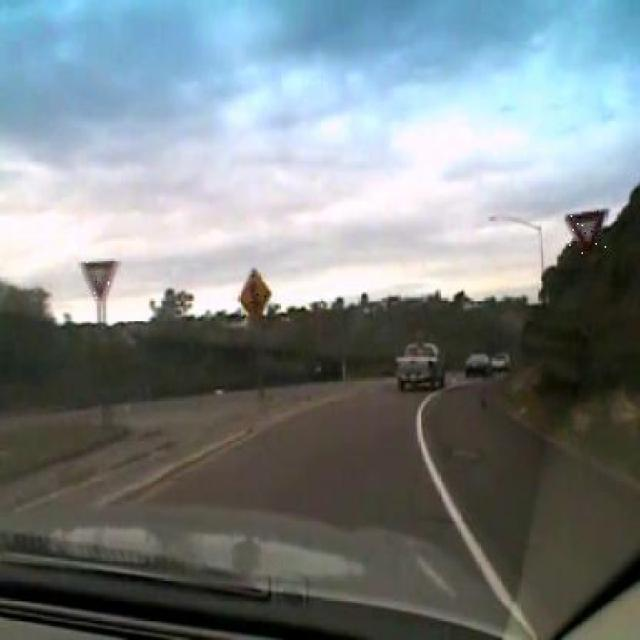merge: (237, 266, 271, 323)
yield: (566, 206, 609, 259), (77, 258, 117, 300)
